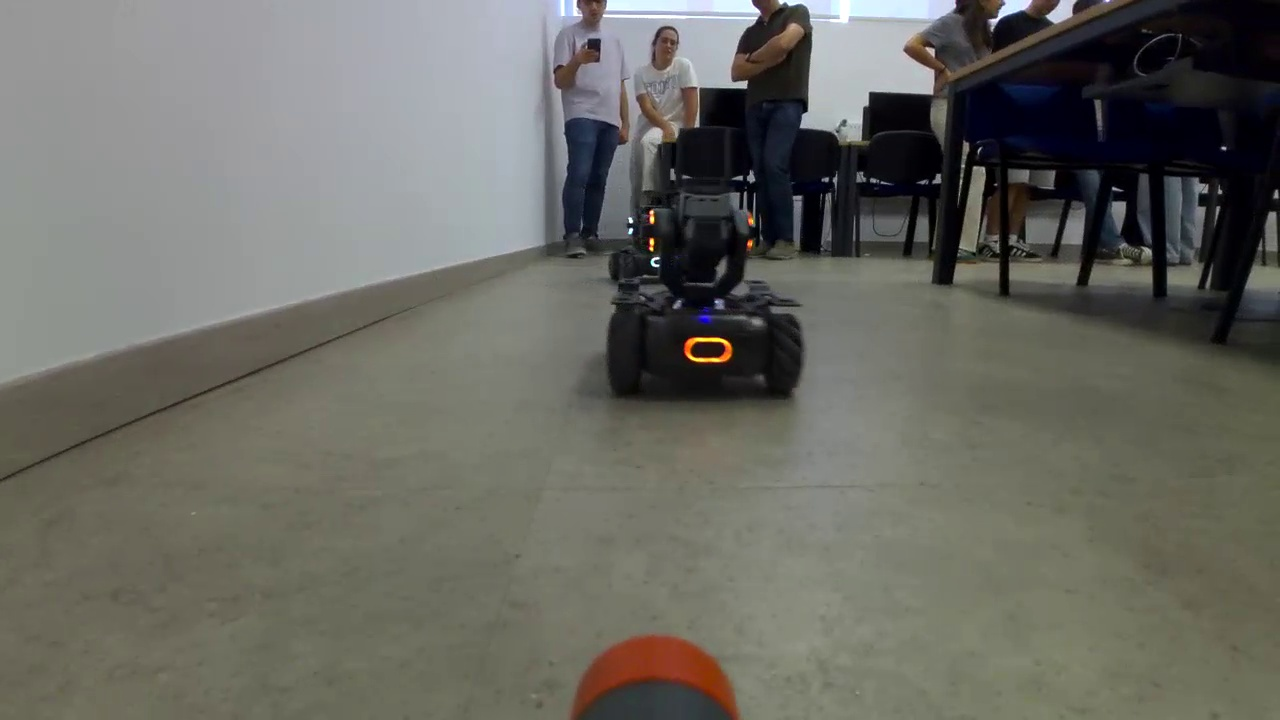robot: (618, 198, 811, 405)
